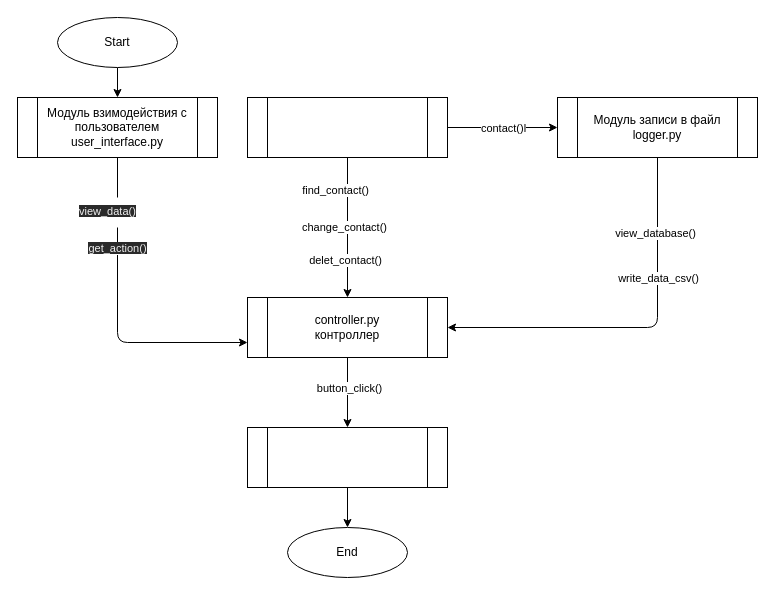
Some shapes in this 775 by 595 pixel diagram are drawn without their labels. Here are the shapes that lost their labels. From the top down, the centre of each, then its label:
At (x=347, y=127): "Модуль создания данных create_data.py".
At (x=347, y=457): "main.py главная".
